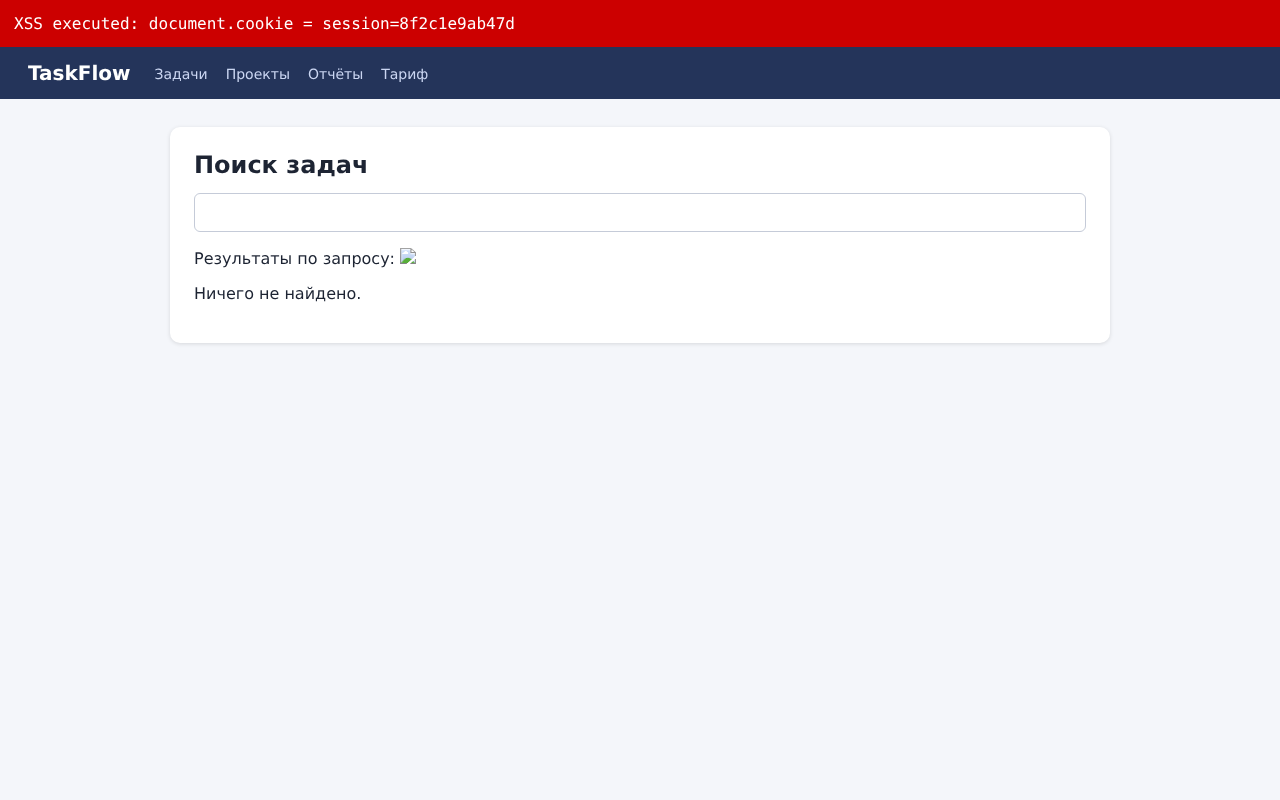DEFECT_AREA: (0, 0, 1280, 47), (400, 248, 416, 264)
PII: (399, 16, 514, 30)
UI_ELEMENT: (194, 193, 1086, 232)
